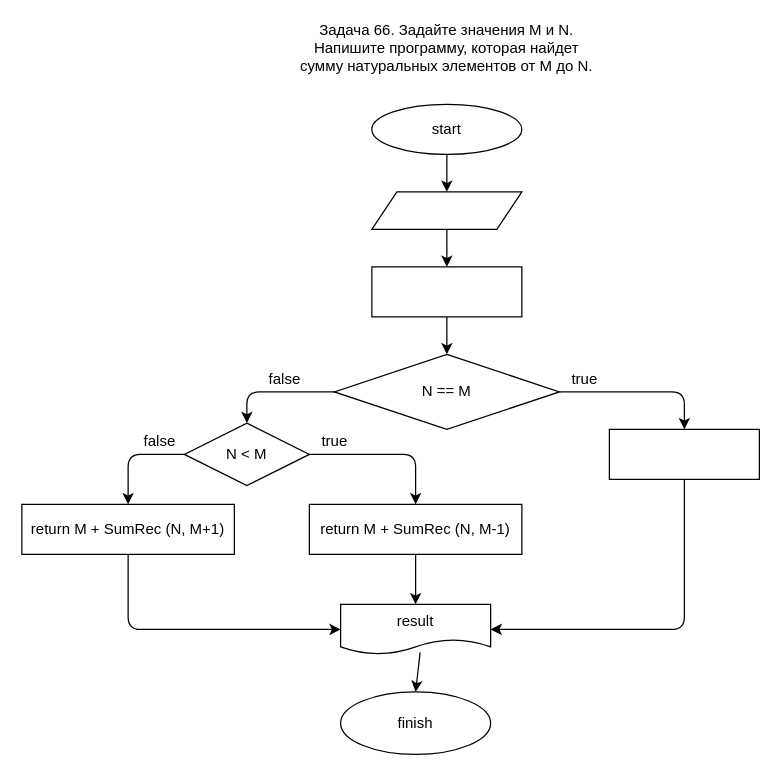
Some shapes in this 781 by 776 pixel diagram are drawn without their labels. Each missing label, with the centre of its shape:
M, N: (446,210)
result = SumRec: (446,291)
return N: (683,453)
